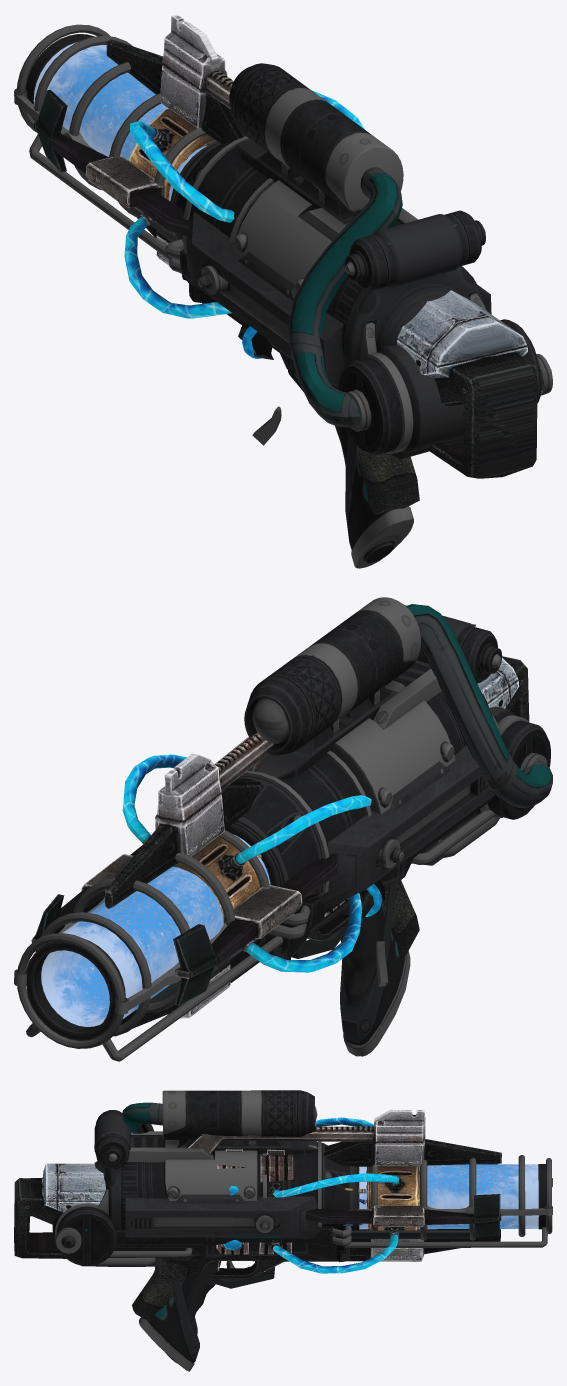
Rendered from hollow-gun.glb.
The picture shows the model from 3 angles, top to bottom: view 1: azimuth 30°, elevation 25°; view 2: azimuth 150°, elevation 25°; view 3: azimuth 270°, elevation 25°; orthographic projection. The views are drawn at different scales.
Parts seen in each view (by area): view 1: Object_13, Object_26, Object_11, Object_15; view 2: Object_13, Object_11, Object_26, Object_15; view 3: Object_11, Object_26, Object_13, Object_15.
Boxes of the visible parts, x1=… form: Object_13: x1=14, y1=26, x2=552, y2=568; Object_26: x1=33, y1=14, x2=537, y2=514; Object_11: x1=14, y1=24, x2=552, y2=568; Object_15: x1=33, y1=42, x2=206, y2=200; Object_13: x1=14, y1=598, x2=552, y2=1061; Object_11: x1=14, y1=597, x2=552, y2=1059; Object_26: x1=31, y1=656, x2=529, y2=1028; Object_15: x1=41, y1=835, x2=270, y2=1026; Object_11: x1=52, y1=1090, x2=552, y2=1371; Object_26: x1=14, y1=1109, x2=501, y2=1321; Object_13: x1=52, y1=1090, x2=552, y2=1370; Object_15: x1=359, y1=1164, x2=538, y2=1229.
Size of the model in its own units: 0.2895 by 0.5609 by 0.9983.
Materials: 3 (3 with a texture image).
